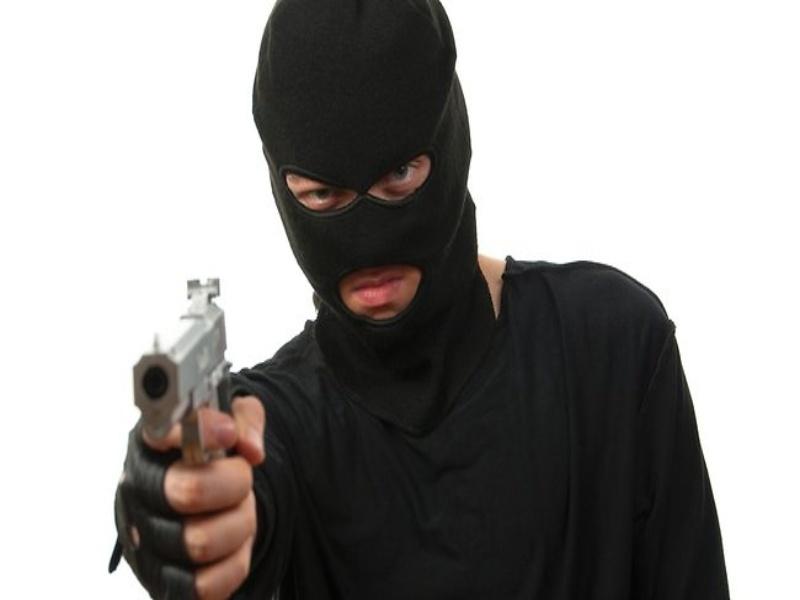balaclava: (252, 1, 477, 332)
gun: (131, 278, 224, 436)
hand: (114, 394, 265, 600)
person: (113, 2, 730, 600)
